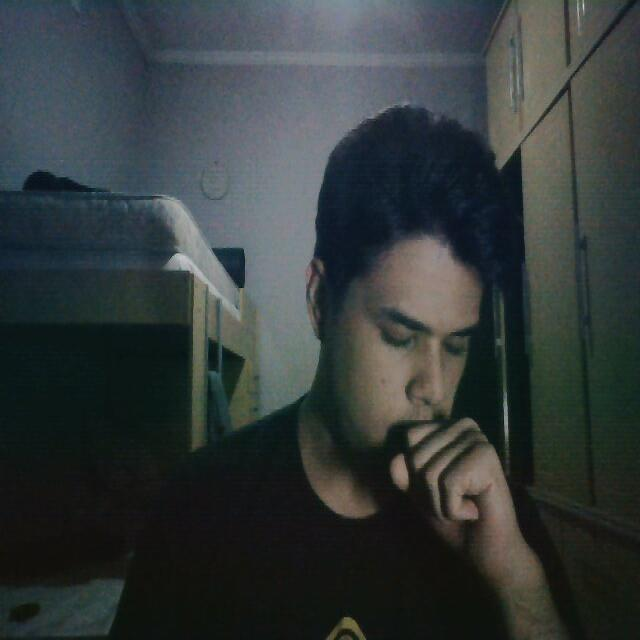sonolento: (292, 223, 518, 597)
